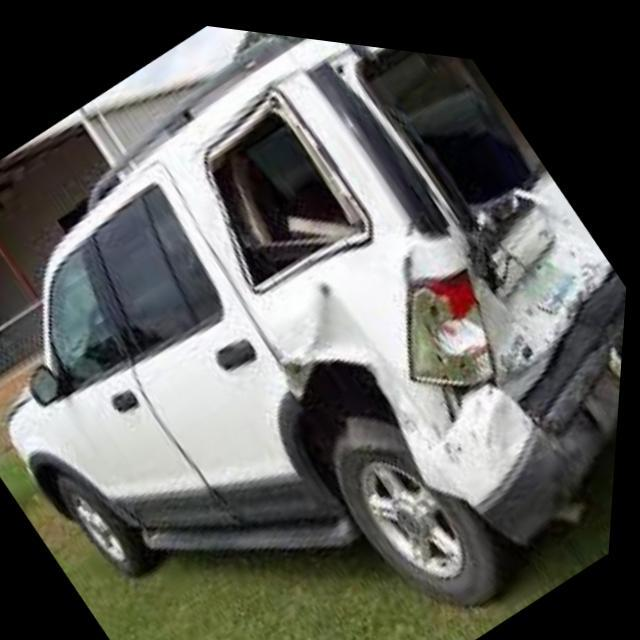crash: (173, 41, 629, 543)
